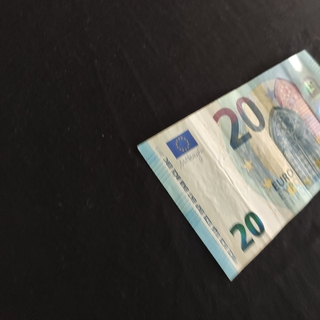20EUROFront: (137, 48, 320, 282)
